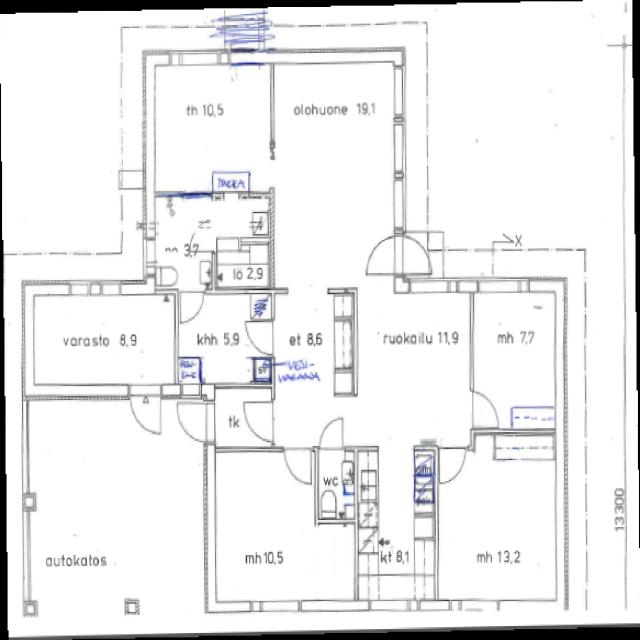door: (364, 236, 406, 276), (395, 236, 437, 276), (130, 384, 161, 438), (176, 404, 217, 441), (240, 402, 274, 441), (470, 391, 502, 427), (284, 447, 312, 487), (244, 321, 274, 354), (440, 448, 465, 484), (188, 220, 216, 250), (320, 419, 342, 453), (181, 291, 203, 324)
